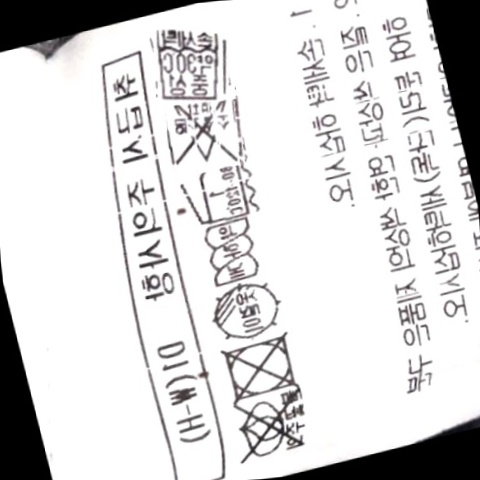DN_tumble_dry: (216, 330, 307, 403)
hand_wash: (148, 25, 233, 103)
iron_low: (182, 161, 255, 228)
line_dry_in_shade: (204, 279, 288, 343)
wring: (202, 217, 264, 289)
